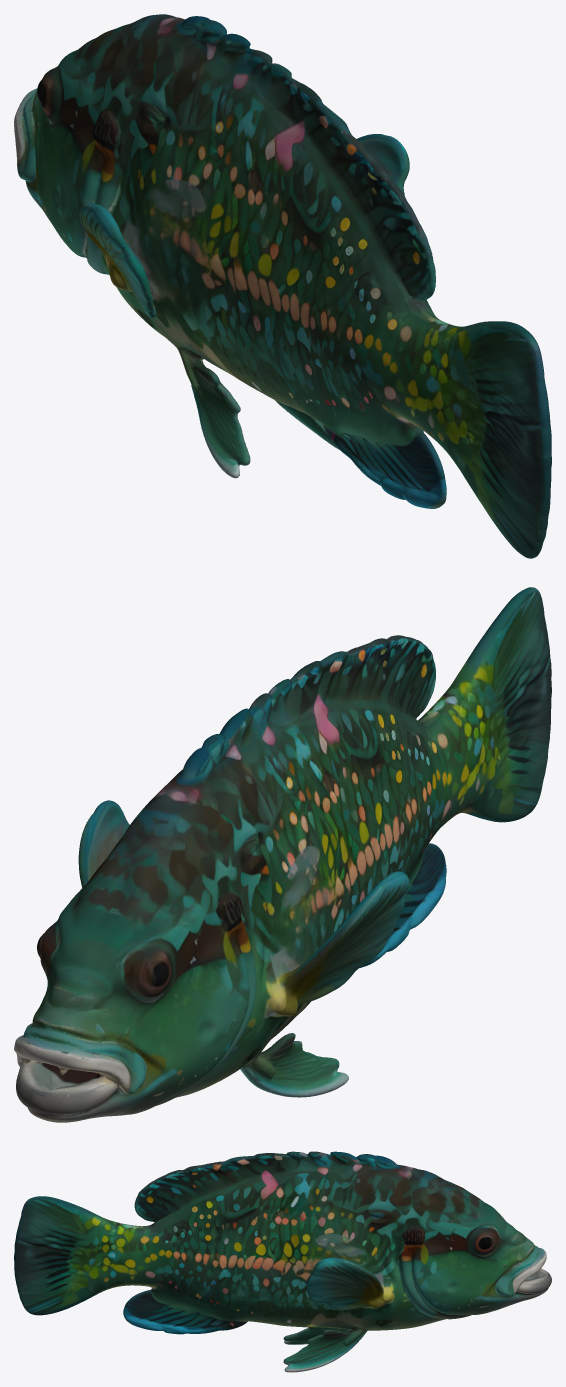
The model's file is trop_parrot.glb.
3 renders of one model, top to bottom at view 1: azimuth 30°, elevation 25°; view 2: azimuth 150°, elevation 25°; view 3: azimuth 270°, elevation 25°, orthographic. The views are drawn at different scales.
Visible parts, largest first — view 1: tripo_node_e0227b37-ff1f-4929-8de8-c789576a374c; view 2: tripo_node_e0227b37-ff1f-4929-8de8-c789576a374c; view 3: tripo_node_e0227b37-ff1f-4929-8de8-c789576a374c.
Part boxes in pixels (bbox=[...]): tripo_node_e0227b37-ff1f-4929-8de8-c789576a374c: bbox=[14, 14, 551, 558]; tripo_node_e0227b37-ff1f-4929-8de8-c789576a374c: bbox=[14, 587, 551, 1122]; tripo_node_e0227b37-ff1f-4929-8de8-c789576a374c: bbox=[14, 1151, 551, 1372].
Size of the model in its own units: 0.342 by 0.4236 by 1.
Materials: 1 (1 with a texture image).
